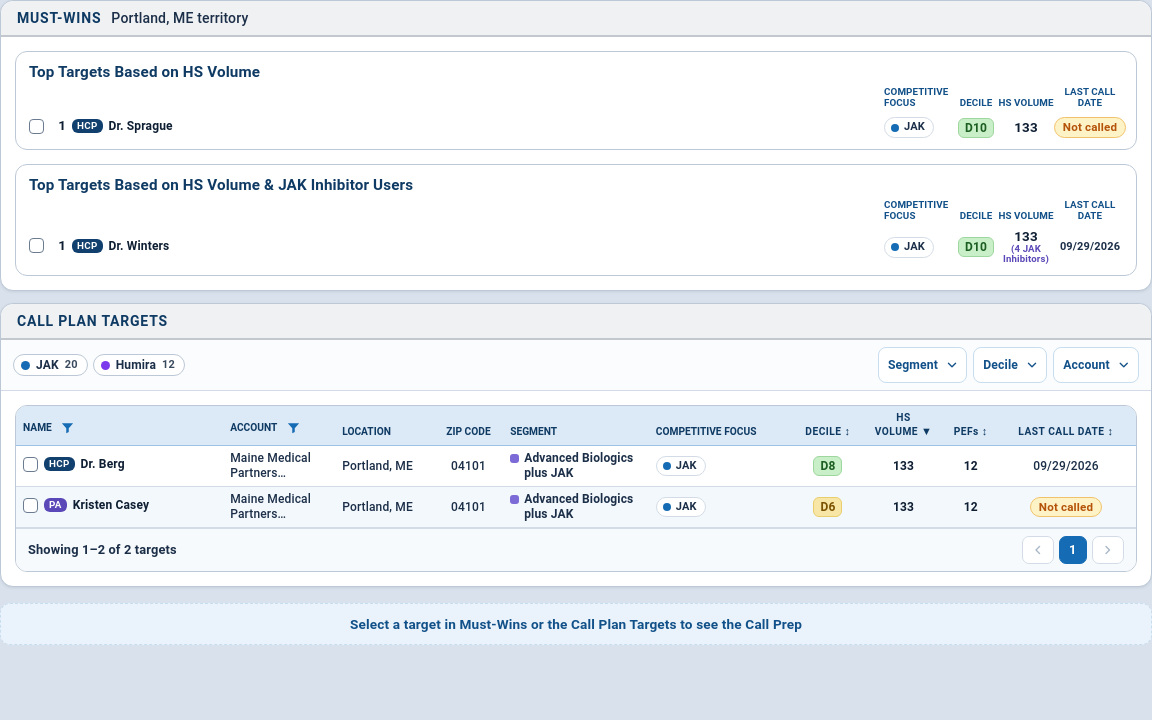
it: Pre-Call Planning › filters by account from the Account header and shows the PEFs column
The image size is (1152, 720).
Expected: the text "Dr. Berg" is shown, [81,457,125,471]
Expected: the button "PEFs↕" is shown, [954,425,988,439]
Click the button named "Filter by account" at (293, 428), box [282,417,304,439]
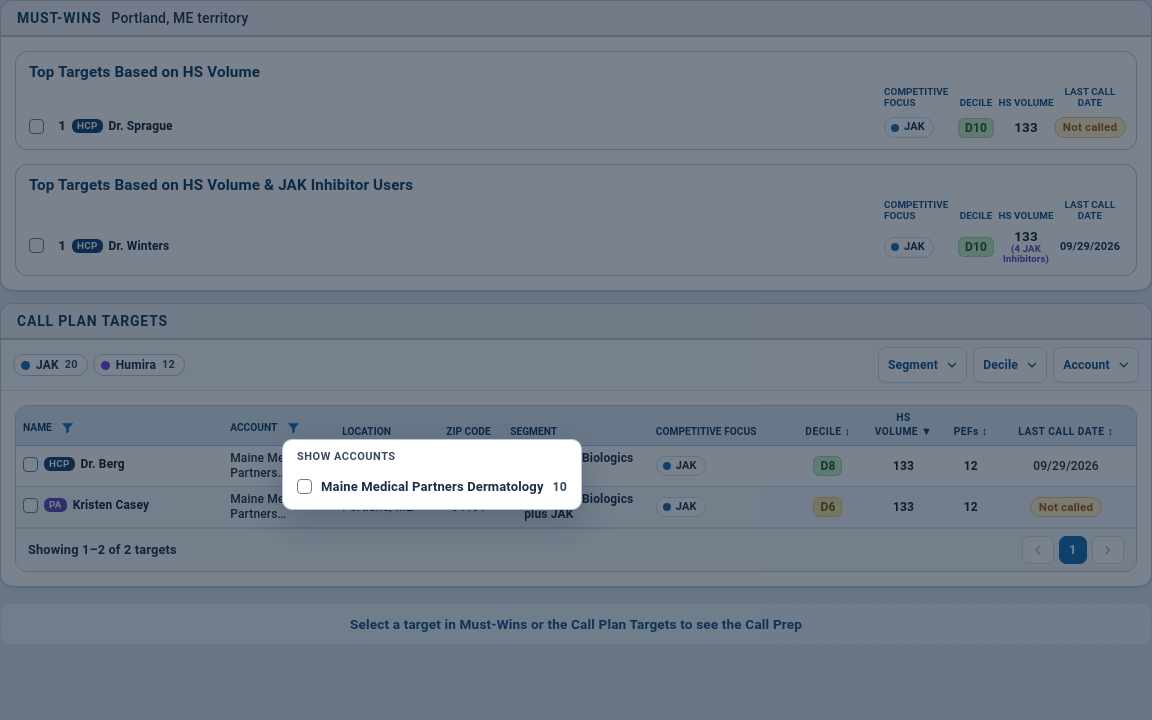
Click the menu item "Maine Medical Partners Dermatology 10" at (432, 487), box [289,470,575,503]
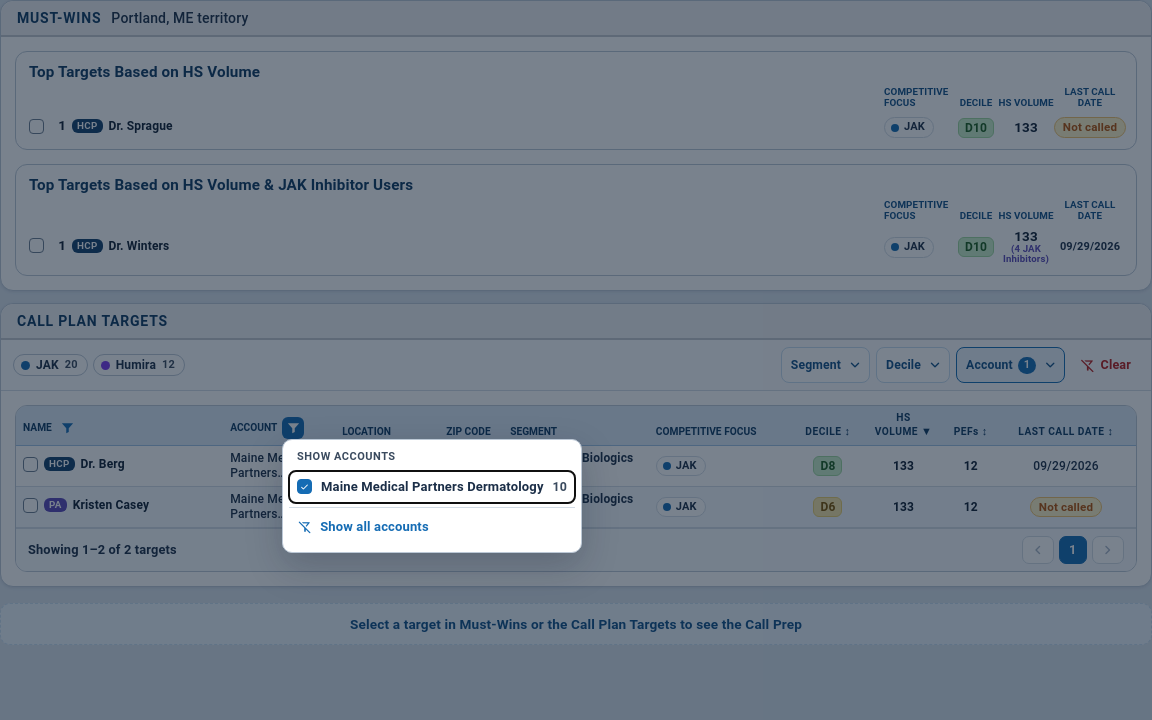
Result: the button "Show all accounts" is shown at [289,507,575,546]
